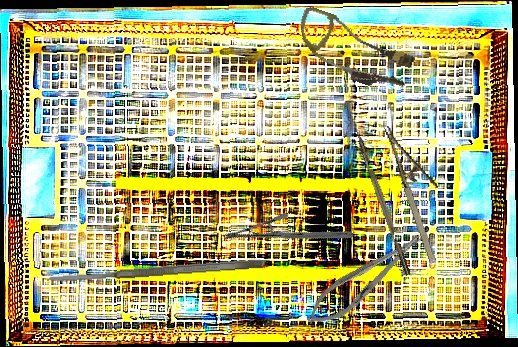Cannula: (288, 4, 420, 98)
Chopper: (344, 116, 411, 279)
Needle Holder: (221, 177, 355, 294), (299, 224, 431, 335), (383, 117, 459, 263)
Spatula Surgical: (46, 257, 266, 285)
